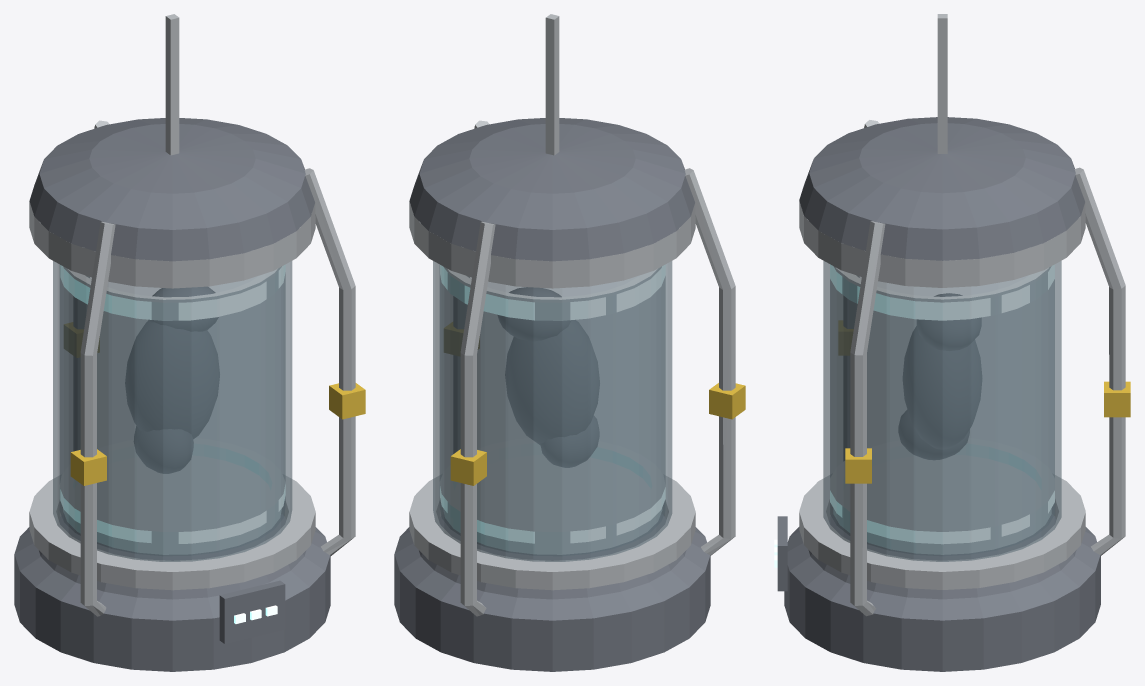
File: ufo-crash-site-and-recovery-facility-specimen-tank-occ-144f1807__17361.glb
The picture shows the model from 3 angles, left to right: view 1: azimuth 30°, elevation 25°; view 2: azimuth 150°, elevation 25°; view 3: azimuth 270°, elevation 25°; orthographic projection.
Parts seen in each view (by area): view 1: specimen-tank-occupied; view 2: specimen-tank-occupied; view 3: specimen-tank-occupied.
Boxes of the visible parts, box(x1,y1,x2,y2) form: specimen-tank-occupied: box(14, 14, 365, 671); specimen-tank-occupied: box(394, 14, 745, 671); specimen-tank-occupied: box(774, 14, 1130, 671).
Bounding box in the file's own units: 1.98 × 3.9 × 2.14.
